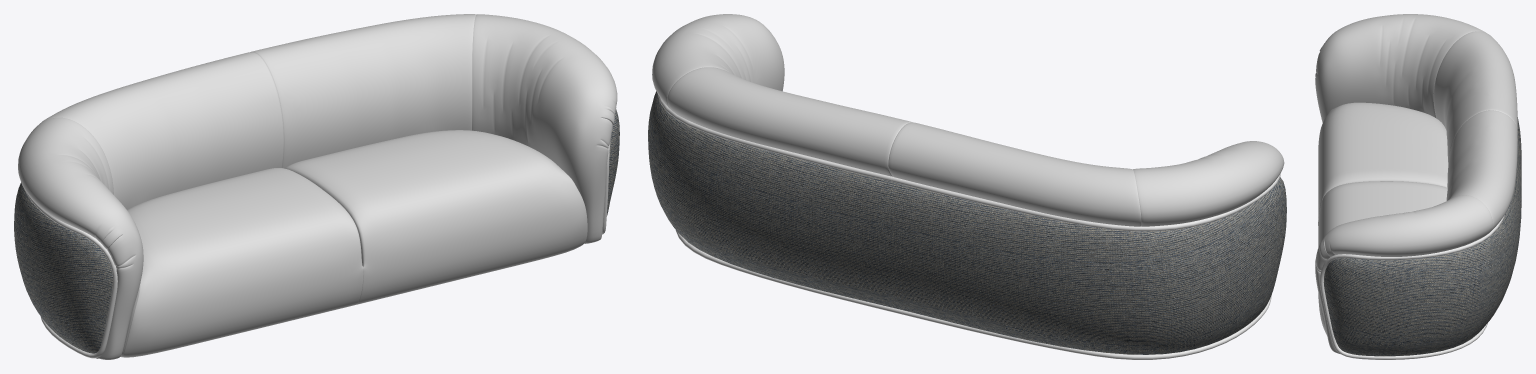
File: SLN_Crazy_Daisy_3_Seater.glb
3 renders of one model, left to right at view 1: azimuth 30°, elevation 25°; view 2: azimuth 150°, elevation 25°; view 3: azimuth 270°, elevation 25°, orthographic. The views are drawn at different scales.
Parts seen in each view (by area): view 1: Crazy_Daisy_3_Seater; view 2: Crazy_Daisy_3_Seater; view 3: Crazy_Daisy_3_Seater.
Boxes of the visible parts, x1,y1,x2,y2 form: Crazy_Daisy_3_Seater: (14, 14, 619, 359); Crazy_Daisy_3_Seater: (648, 14, 1286, 359); Crazy_Daisy_3_Seater: (1315, 14, 1521, 359).
Size of the model in its own units: 3.01 by 0.9306 by 1.17.
Materials: 4 (1 with a texture image).
